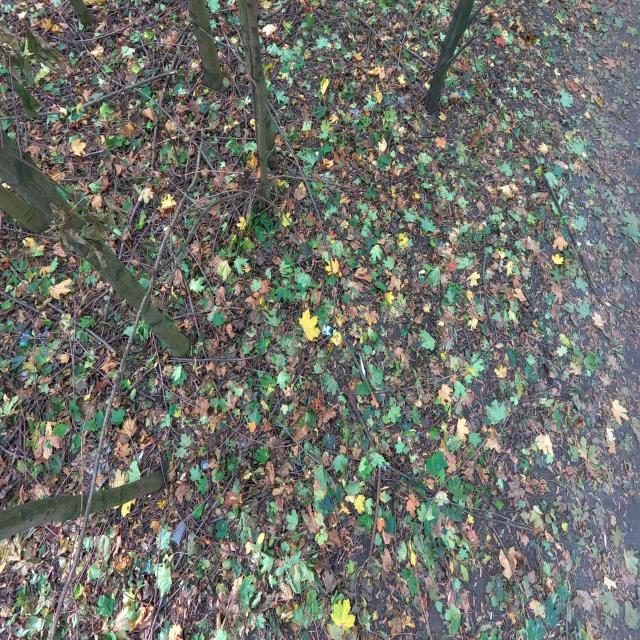rubbish: (169, 520, 186, 545), (321, 323, 337, 339), (200, 457, 219, 469), (350, 108, 361, 116), (396, 95, 404, 103)
